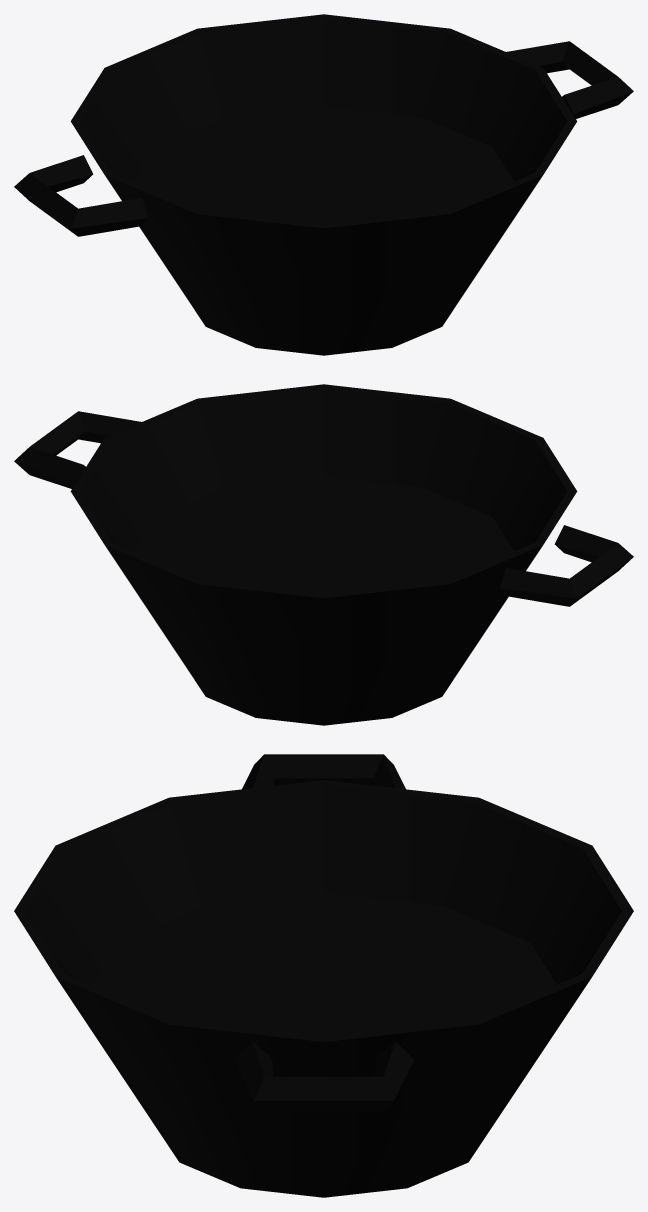
Rendered from SM_colander.fbx.
3 views of the same model, one above another, from view 1: azimuth 30°, elevation 25°; view 2: azimuth 150°, elevation 25°; view 3: azimuth 270°, elevation 25° (orthographic). The views are drawn at different scales.
Visible parts, largest first — view 1: colander; view 2: colander; view 3: colander.
Part boxes in pixels (left/top/right/bottom): colander: left=14, top=14, right=633, bottom=355; colander: left=14, top=384, right=633, bottom=725; colander: left=14, top=754, right=633, bottom=1197.
Bounding box in the file's own units: 0.3335 × 0.1 × 0.26.
